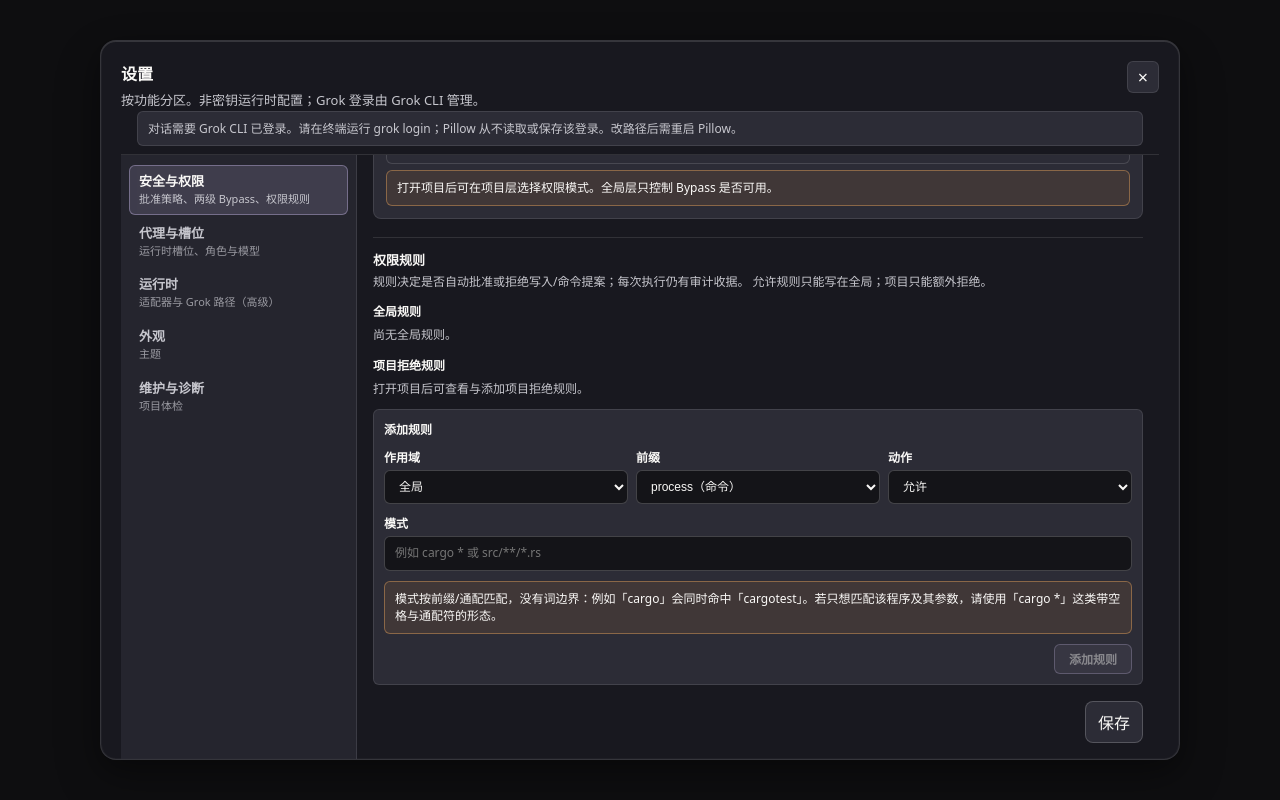
it: Permission rules — add form validation › 2 — empty pattern keeps submit disabled; valid add appends a row
(page scrolled)
Expected: the form with test id "permission-rules-add-form" is shown, top-left (373, 409), bottom-right (1143, 685)
Expected: the button with test id "permission-rules-form-submit" is disabled, top-left (1054, 644), bottom-right (1132, 674)
Type "cargo *" into the field with test id "permission-rules-form-pattern" at (758,553), box top-left (384, 536), bottom-right (1132, 571)
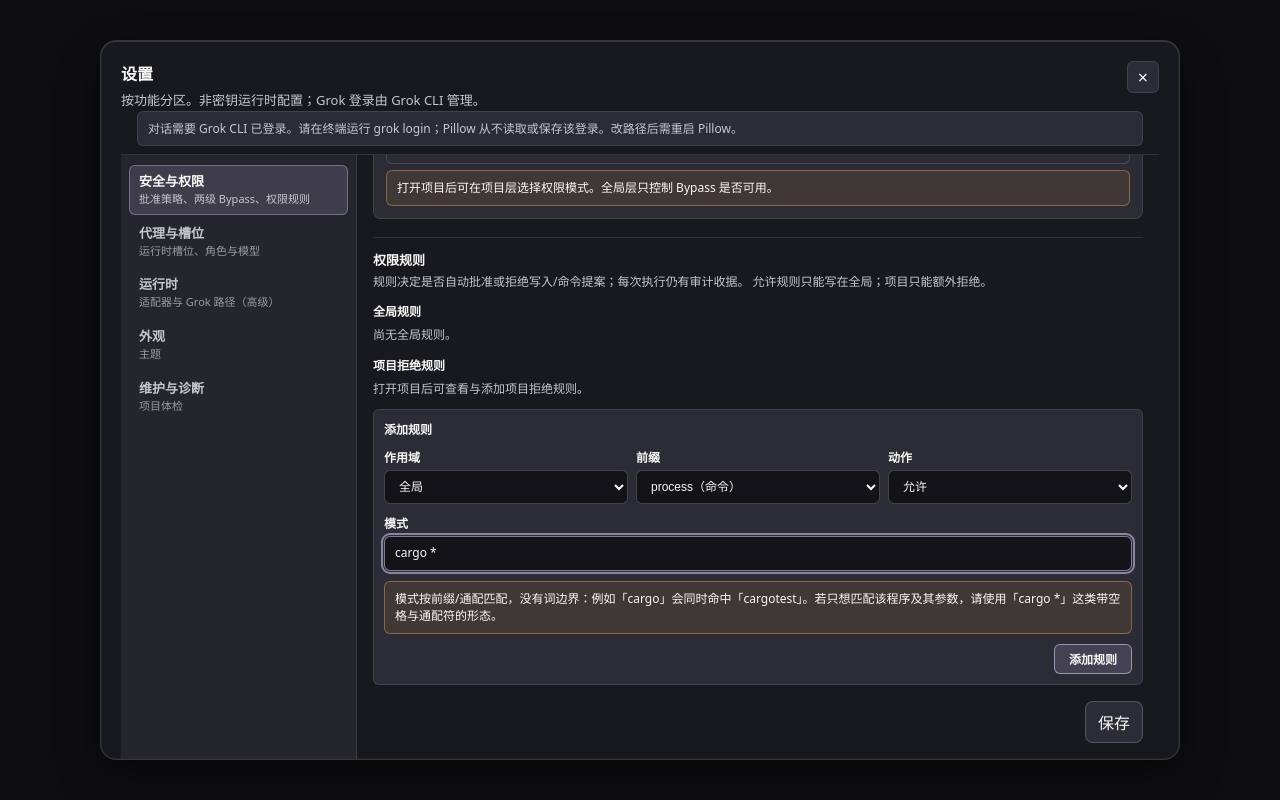
Result: the button with test id "permission-rules-form-submit" is enabled
Click the button with test id "permission-rules-form-submit" at (1093,659), box top-left (1054, 644), bottom-right (1132, 674)
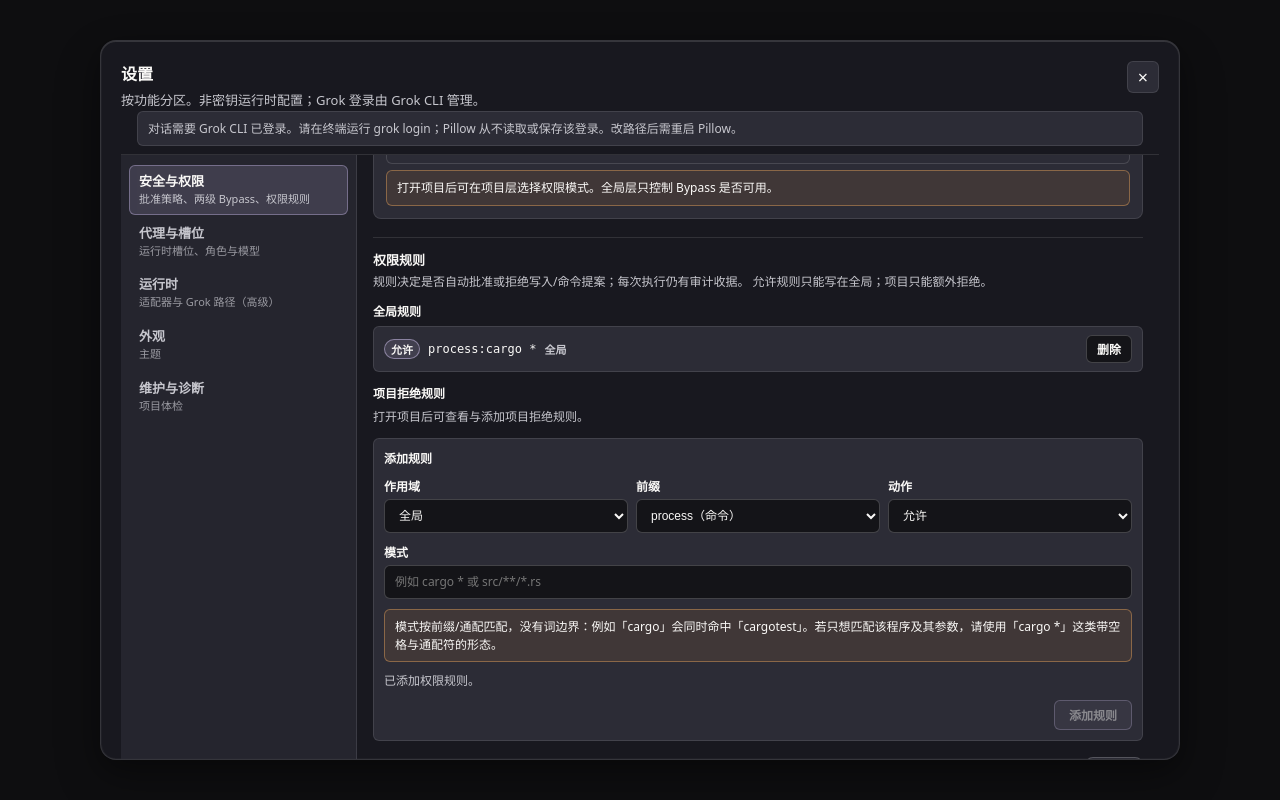
Result: the list with test id "permission-rules-global-list" is shown at top-left (373, 326), bottom-right (1143, 372)
Result: the text with test id "permission-rule-pattern" reads "process:cargo *" at top-left (428, 342), bottom-right (536, 356)
